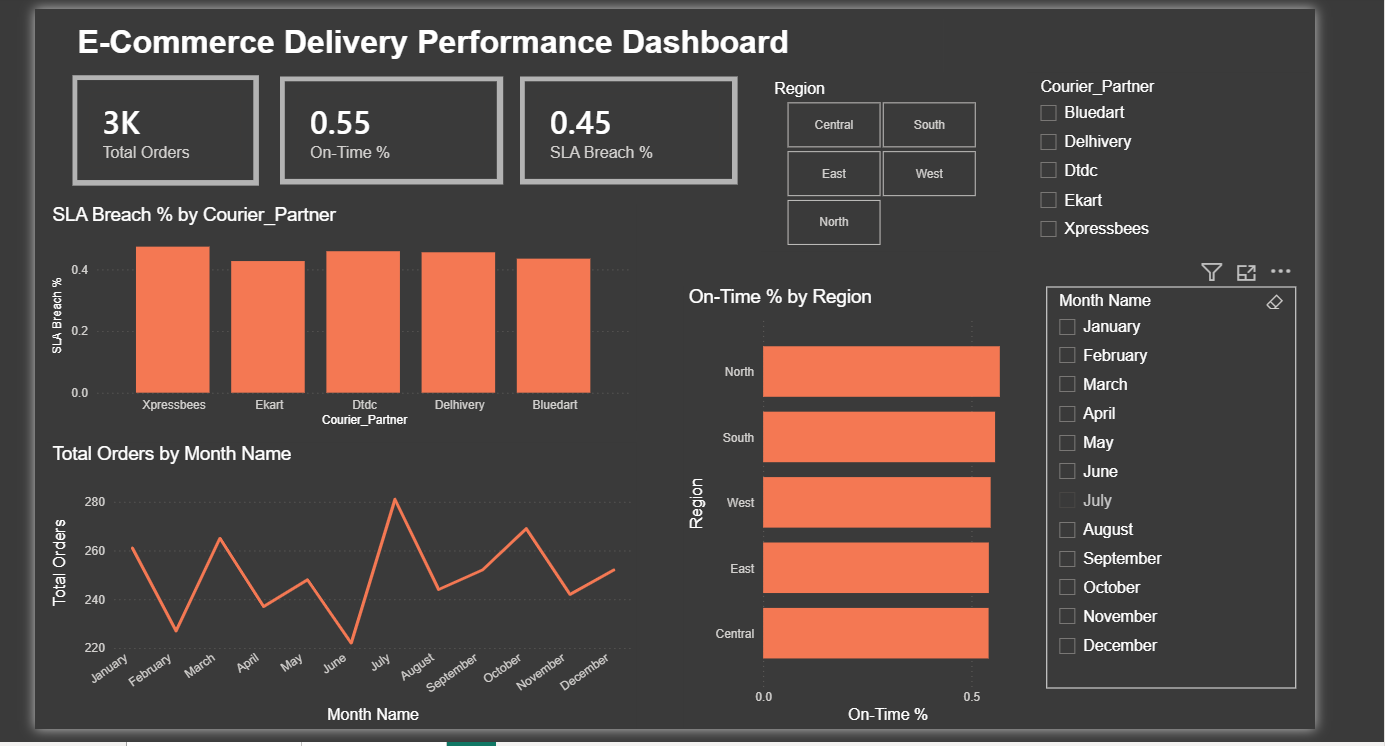

This screenshot's page, from the dashboard's own definition file:
{"tool":"powerbi","page":{"name":"Delivery Overview","canvas":[1280,720],"ordinal":0},"visuals":[{"type":"cardVisual","fields":{"Data":["Fact_Orders.Total Orders"]},"box":[37.9,65.9,186.5,110.8],"z":0},{"type":"cardVisual","fields":{"Data":["Fact_Orders.On-Time %"]},"box":[245.4,67.3,223,108],"z":1000},{"type":"cardVisual","fields":{"Data":["Fact_Orders.SLA Breach %"]},"box":[485.2,67.3,217.4,108],"z":2000},{"type":"clusteredColumnChart","fields":{"Category":["Fact_Orders.Courier_Partner"],"Y":["Fact_Orders.SLA Breach %"]},"box":[12.5,195,588.8,227.5],"z":3000},{"type":"slicer","fields":{"Values":["Dim_Date.Month Name"]},"box":[1011,277.7,249.6,402.5],"z":4000},{"type":"slicer","fields":{"Values":["Fact_Orders.Region"]},"box":[726.2,66.2,238.8,176.2],"z":5000},{"type":"slicer","fields":{"Values":["Fact_Orders.Courier_Partner"]},"box":[992.5,63.8,281.2,178.8],"z":6000},{"type":"clusteredBarChart","fields":{"Category":["Fact_Orders.Region"],"Y":["Fact_Orders.On-Time %"]},"box":[649.3,277.7,343.6,441.7],"z":7000},{"type":"lineChart","fields":{"Y":["Fact_Orders.Total Orders"],"Category":["Dim_Date.Month Name"]},"box":[12.6,433.3,589,286.1],"z":8000},{"type":"textbox","box":[37.5,10,871.2,53.8],"z":8001}]}

Visuals, with their boxes on the page's 1280x720 design canvas (x1, y1, x2, y2). These are canvas units, not pixel positions in the 1385x746 screenshot, which may show the page scaled, cropped or inside an application window:
cardVisual - Fact_Orders.Total Orders: bbox=[38, 66, 224, 177]
cardVisual - Fact_Orders.On-Time %: bbox=[245, 67, 468, 175]
cardVisual - Fact_Orders.SLA Breach %: bbox=[485, 67, 703, 175]
clusteredColumnChart - Fact_Orders.Courier_Partner x Fact_Orders.SLA Breach %: bbox=[12, 195, 601, 422]
slicer - Dim_Date.Month Name: bbox=[1011, 278, 1261, 680]
slicer - Fact_Orders.Region: bbox=[726, 66, 965, 242]
slicer - Fact_Orders.Courier_Partner: bbox=[992, 64, 1274, 243]
clusteredBarChart - Fact_Orders.Region x Fact_Orders.On-Time %: bbox=[649, 278, 993, 719]
lineChart - Fact_Orders.Total Orders x Dim_Date.Month Name: bbox=[13, 433, 602, 719]
textbox: bbox=[38, 10, 909, 64]
